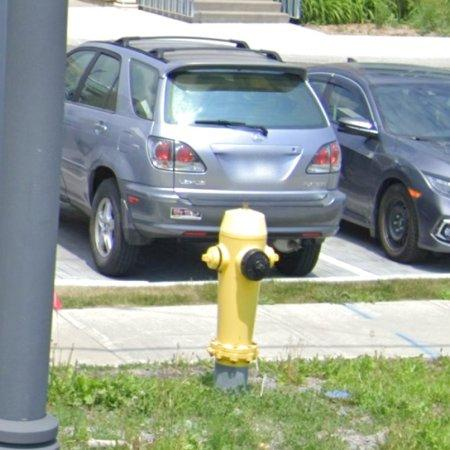a fire hydrant: (202, 209, 279, 391)
